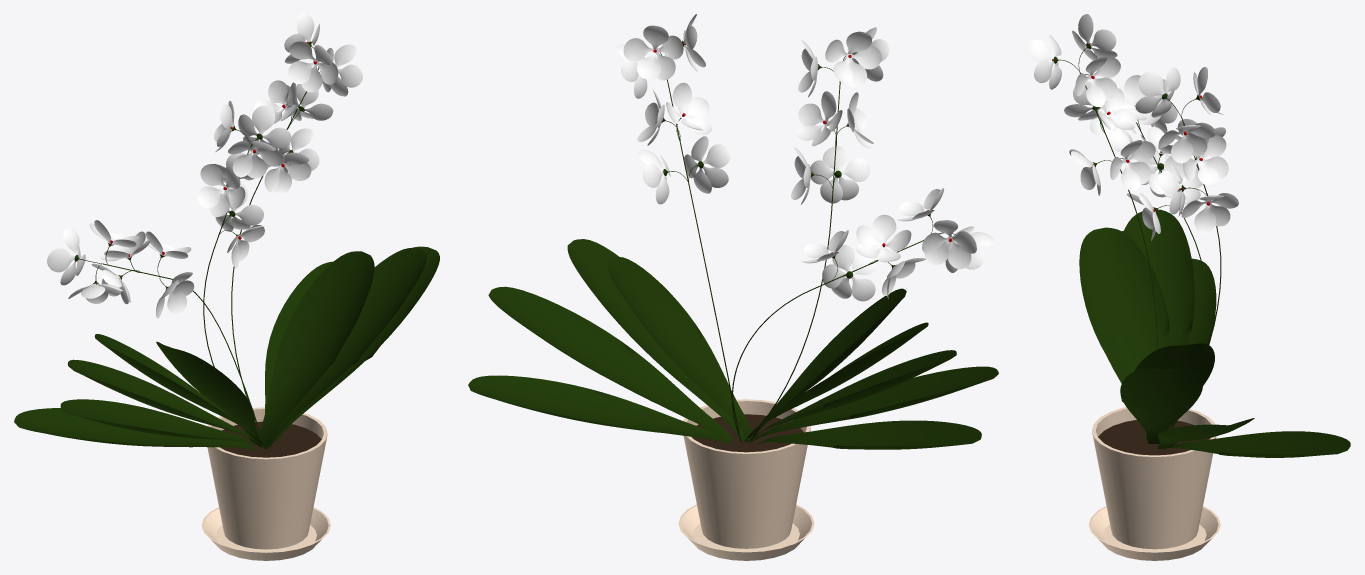
3 views of the same model, side by side, from view 1: azimuth 30°, elevation 25°; view 2: azimuth 150°, elevation 25°; view 3: azimuth 270°, elevation 25° (orthographic). The views are drawn at different scales.
Parts seen in each view (by area): view 1: Group_157, Group_050, Group_053, Group_055, Group_056, Group_057, Group_156, Group_054, Group_051, Group_052; view 2: Group_157, Group_051, Group_050, Group_052, Group_055, Group_053, Group_056, Group_156, Group_057, Group_054; view 3: Group_157, Group_156, Group_054, Group_053, Group_052, Group_050, Group_055, Group_051, Group_014, Group_026, Group_120, Group_005 (+1 smaller).
Part boxes in pixels (bbox=[...]): Group_157: bbox=[201, 407, 330, 560]; Group_050: bbox=[259, 251, 374, 448]; Group_053: bbox=[268, 248, 426, 447]; Group_055: bbox=[14, 408, 255, 451]; Group_056: bbox=[60, 399, 264, 449]; Group_057: bbox=[67, 359, 266, 449]; Group_156: bbox=[156, 341, 261, 446]; Group_054: bbox=[94, 334, 268, 448]; Group_051: bbox=[274, 246, 439, 441]; Group_052: bbox=[265, 261, 333, 413]; Group_157: bbox=[678, 399, 814, 560]; Group_051: bbox=[488, 286, 732, 442]; Group_050: bbox=[606, 256, 752, 442]; Group_052: bbox=[468, 375, 731, 445]; Group_055: bbox=[757, 420, 981, 449]; Group_053: bbox=[567, 239, 746, 441]; Group_056: bbox=[752, 366, 998, 441]; Group_156: bbox=[749, 288, 906, 446]; Group_057: bbox=[746, 350, 956, 442]; Group_054: bbox=[744, 322, 928, 441]; Group_157: bbox=[1088, 407, 1220, 560]; Group_156: bbox=[1079, 227, 1170, 380]; Group_054: bbox=[1123, 209, 1194, 442]; Group_053: bbox=[1120, 368, 1202, 443]; Group_052: bbox=[1162, 431, 1350, 457]; Group_050: bbox=[1134, 343, 1214, 440]; Group_055: bbox=[1188, 258, 1216, 344]; Group_051: bbox=[1157, 418, 1254, 448]; Group_014: bbox=[1138, 71, 1165, 96]; Group_026: bbox=[1194, 203, 1216, 233]; Group_120: bbox=[1027, 39, 1054, 62]; Group_005: bbox=[1171, 133, 1192, 163].
Bounding box in the file's own units: 905 × 961 × 563.
